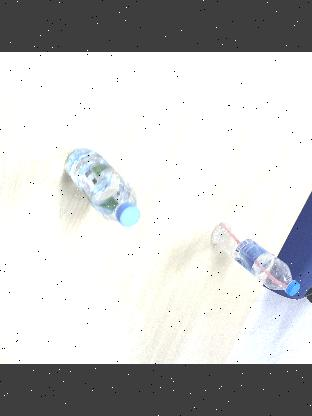Plastic Bottle: (208, 221, 302, 297), (59, 144, 142, 226)
